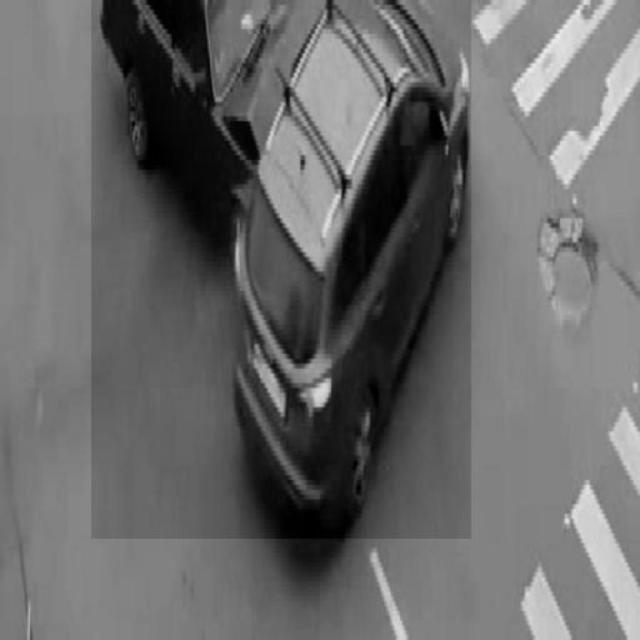accident: (92, 0, 471, 538)
